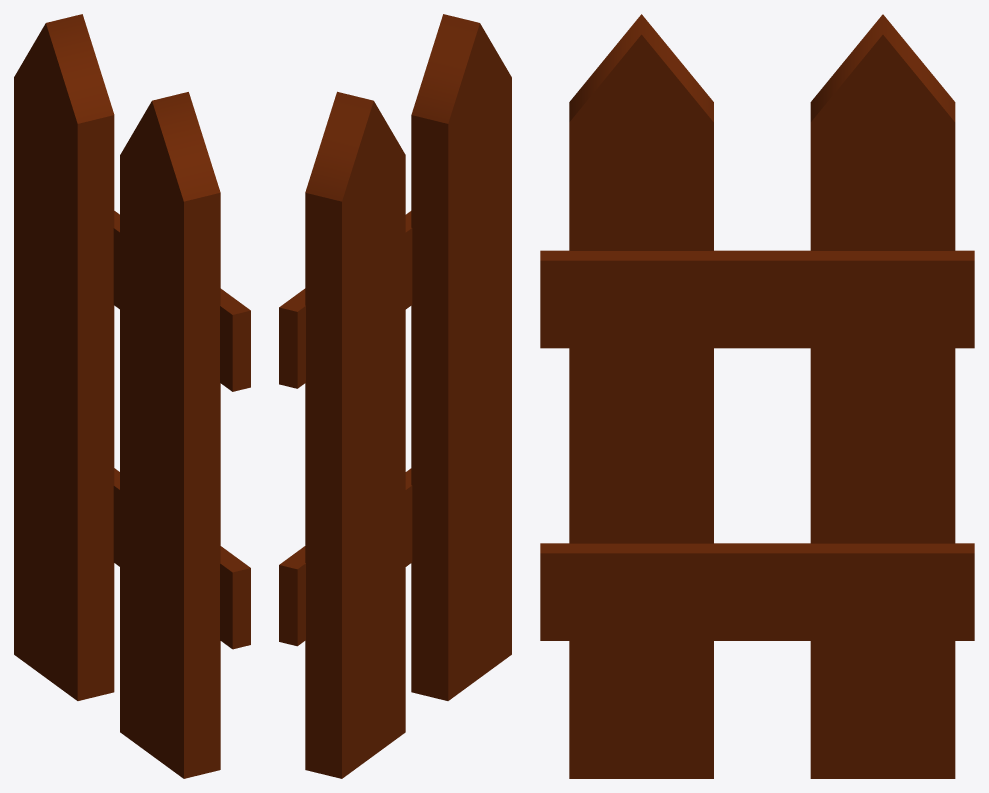
Rendered from WallX1.FBX.
3 renders of one model, left to right at view 1: azimuth 30°, elevation 25°; view 2: azimuth 150°, elevation 25°; view 3: azimuth 270°, elevation 25°, orthographic. The views are drawn at different scales.
Visible parts, largest first — view 1: Body; view 2: Body; view 3: Body.
Boxes of the visible parts, x1,y1,x2,y2 form: Body: [14, 14, 250, 778]; Body: [279, 14, 511, 778]; Body: [540, 14, 974, 778].
Size of the model in its own units: 0.1479 by 1.7 by 0.9.
